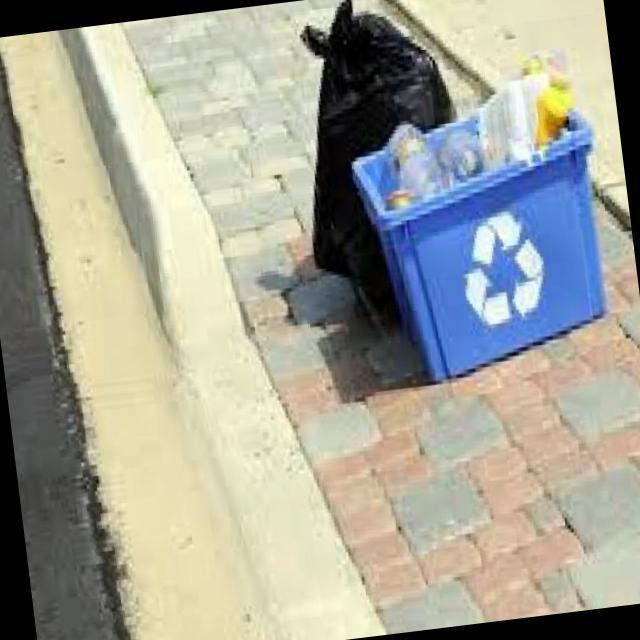garbage: (277, 0, 628, 394)
